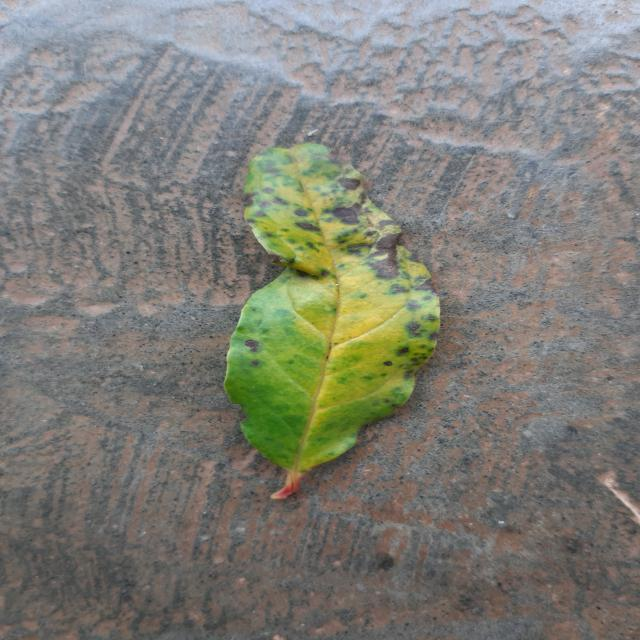pomgranate: (224, 144, 440, 499)
